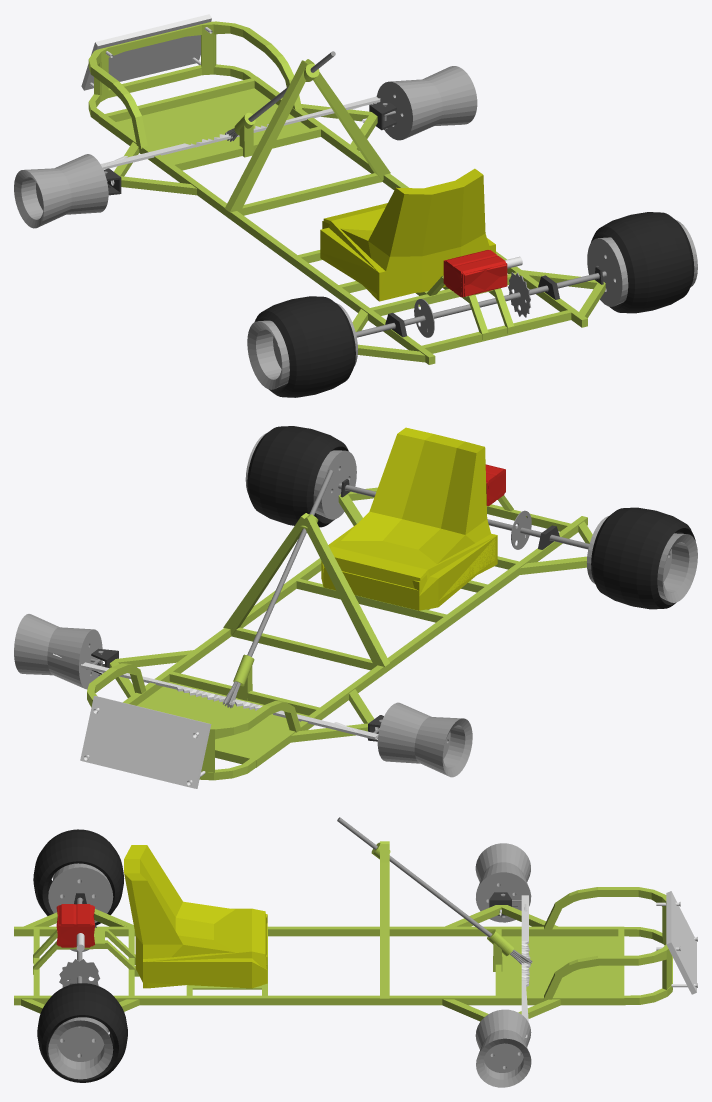
File: solidWorksGoKartTest.fbx
3 renders of one model, top to bottom at view 1: azimuth 30°, elevation 25°; view 2: azimuth 150°, elevation 25°; view 3: azimuth 270°, elevation 25°, orthographic. The views are drawn at different scales.
Visible parts, largest first — view 1: Frame, Seat, rearTire01, rearTire, frontLeftWheel.001, frontLeftWheel.000, signHolder, rearLeftWheel, electricEngine, rearRightWheel, steeringRack, rearAxis (+1 smaller); view 2: Frame, Seat, signHolder, rearTire01, rearTire, frontLeftWheel.001, frontLeftWheel.000, rearLeftWheel, rearRightWheel, steeringRack, BoxTube, rearAxis (+2 smaller); view 3: Frame, Seat, rearTire, rearTire01, frontLeftWheel.000, rearRightWheel, frontLeftWheel.001, rearLeftWheel, signHolder, electricEngine, BoxTube, steeringRack (+1 smaller).
Part boxes in pixels (left/top/right/bottom): Frame: left=88, top=21, right=605, bottom=364; Seat: left=320, top=168, right=495, bottom=301; rearTire01: left=254, top=296, right=355, bottom=397; rearTire: left=591, top=212, right=694, bottom=313; frontLeftWheel.001: left=14, top=154, right=108, bottom=228; frontLeftWheel.000: left=376, top=66, right=477, bottom=140; signHolder: left=81, top=14, right=211, bottom=90; rearLeftWheel: left=247, top=303, right=357, bottom=389; electricEngine: left=443, top=250, right=507, bottom=297; rearRightWheel: left=587, top=220, right=697, bottom=306; steeringRack: left=100, top=96, right=380, bottom=169; rearAxis: left=355, top=271, right=606, bottom=337; Frame: left=87, top=487, right=592, bottom=780; Seat: left=321, top=427, right=497, bottom=610; signHolder: left=80, top=696, right=211, bottom=788; rearTire01: left=591, top=507, right=695, bottom=609; rearTire: left=247, top=426, right=348, bottom=527; frontLeftWheel.001: left=377, top=702, right=472, bottom=777; frontLeftWheel.000: left=14, top=614, right=102, bottom=689; rearLeftWheel: left=587, top=516, right=697, bottom=602; rearRightWheel: left=245, top=433, right=356, bottom=519; steeringRack: left=81, top=662, right=378, bottom=739; BoxTube: left=222, top=469, right=333, bottom=708; rearAxis: left=338, top=483, right=589, bottom=549; Frame: left=14, top=841, right=672, bottom=1021; Seat: left=124, top=845, right=267, bottom=988; rearTire: left=37, top=983, right=127, bottom=1082; rearTire01: left=33, top=829, right=124, bottom=925; frontLeftWheel.000: left=475, top=1009, right=531, bottom=1087; rearRightWheel: left=48, top=1017, right=113, bottom=1079; frontLeftWheel.001: left=475, top=843, right=531, bottom=922; rearLeftWheel: left=48, top=863, right=113, bottom=922; signHolder: left=666, top=891, right=696, bottom=994; electricEngine: left=56, top=904, right=94, bottom=947; BoxTube: left=337, top=817, right=532, bottom=965; steeringRack: left=521, top=895, right=530, bottom=1022.
Size of the model in its own units: 251 by 108 by 372.
